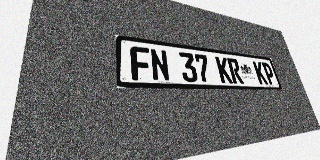3: (179, 52, 198, 82)
7: (193, 54, 212, 83)
F: (130, 46, 152, 81)
K: (215, 56, 233, 83), (252, 61, 268, 85)
N: (149, 48, 170, 81)
P: (261, 62, 277, 85)
R: (227, 58, 244, 84)
